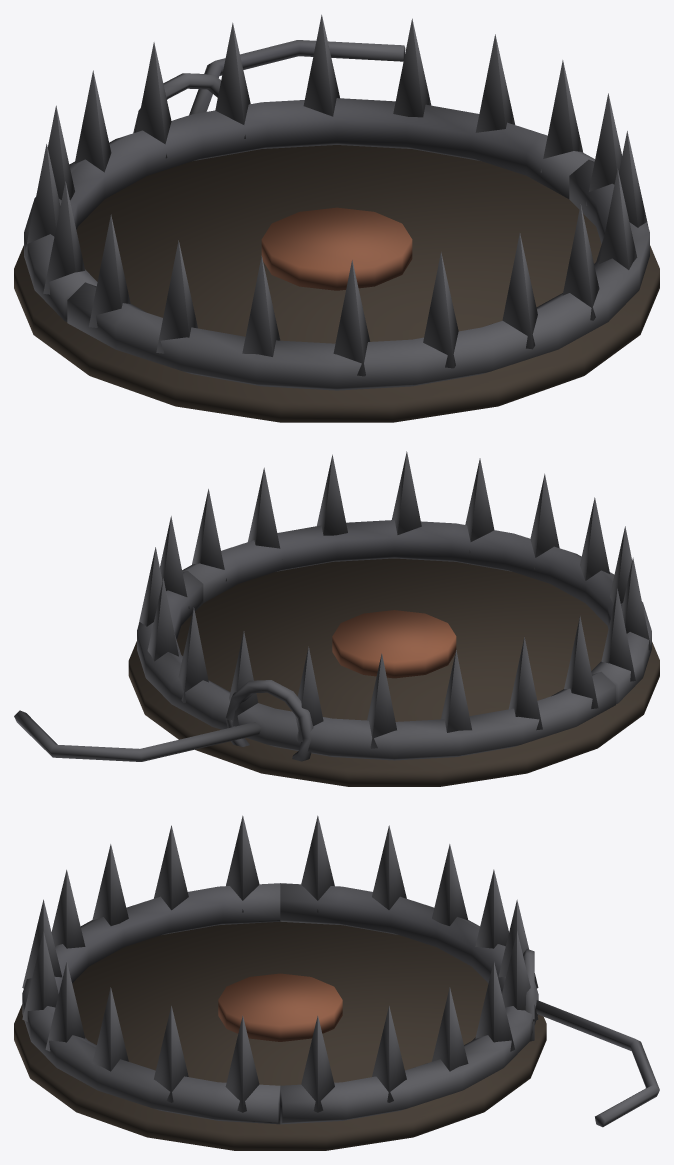
File: kit_trap3.glb
3 views of the same model, one above another, from view 1: azimuth 30°, elevation 25°; view 2: azimuth 150°, elevation 25°; view 3: azimuth 270°, elevation 25° (orthographic). The views are drawn at different scales.
Parts seen in each view (by area): view 1: kit_trap3; view 2: kit_trap3; view 3: kit_trap3.
Part boxes in pixels (x1,y1,x2,y2): kit_trap3: (14, 14, 659, 422); kit_trap3: (14, 451, 659, 786); kit_trap3: (14, 815, 659, 1150).
Size of the model in its own units: 0.5909 by 0.1626 by 0.7276.
